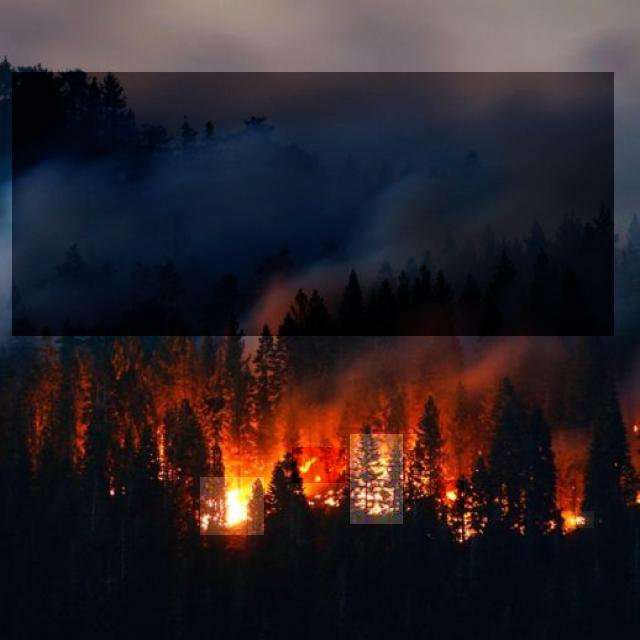Fire: (350, 434, 403, 524), (200, 477, 264, 535), (292, 448, 345, 483), (436, 480, 464, 508), (561, 511, 594, 528)
Smoke: (12, 72, 614, 336)
